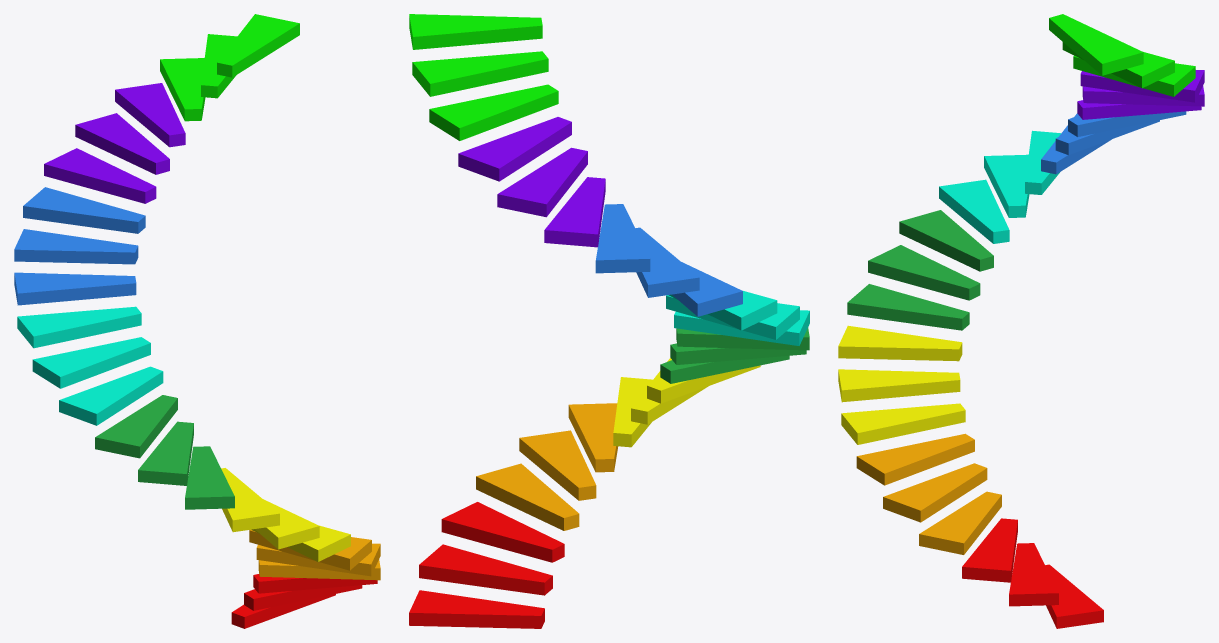
The model's file is Lader5.fbx.
The picture shows the model from 3 angles, left to right: view 1: azimuth 30°, elevation 25°; view 2: azimuth 150°, elevation 25°; view 3: azimuth 270°, elevation 25°; orthographic projection. The views are drawn at different scales.
Visible parts, largest first — view 1: Lader5; view 2: Lader5; view 3: Lader5.
Part boxes in pixels (left/top/right/bottom): Lader5: left=14, top=14, right=380, bottom=628; Lader5: left=409, top=14, right=809, bottom=628; Lader5: left=838, top=14, right=1204, bottom=628.
Bounding box in the file's own units: 13.98 × 23.5 × 13.98.
